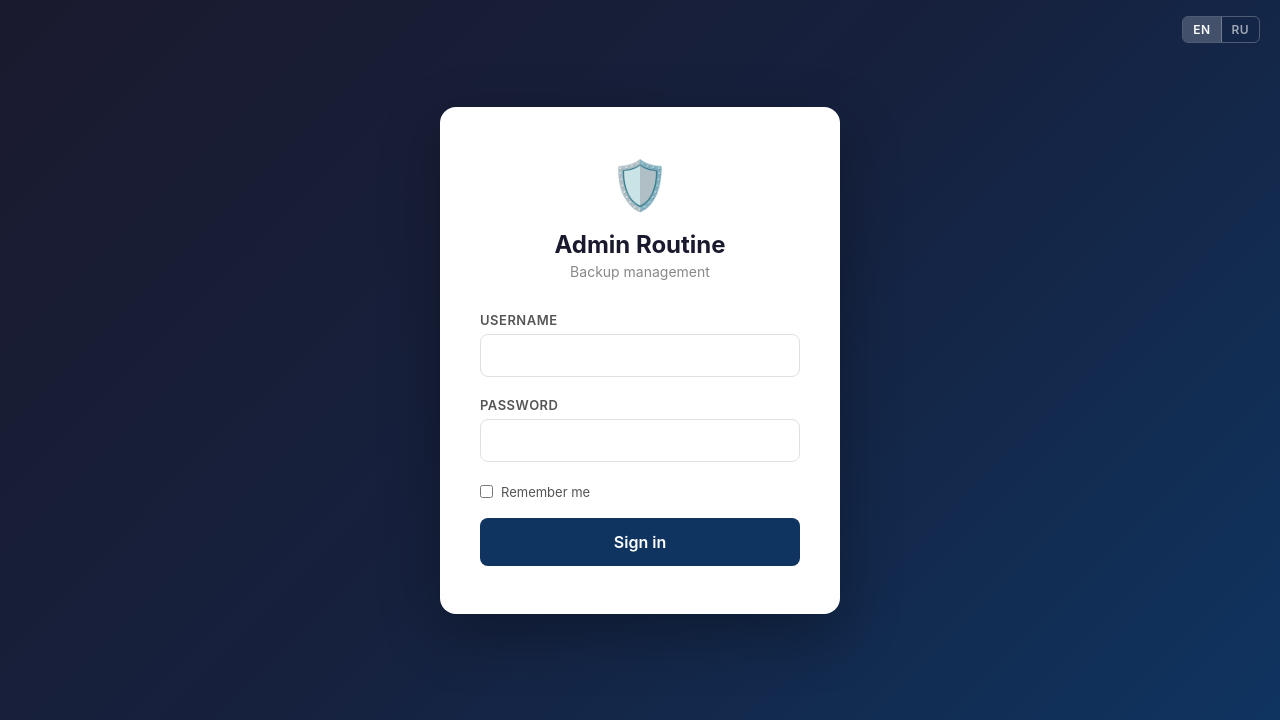
Test: LoginPage › shows error message on login failure
The image size is (1280, 720).
Type "admin1" into the field labelled "Username" at (640, 355), box [480,334,800,376]
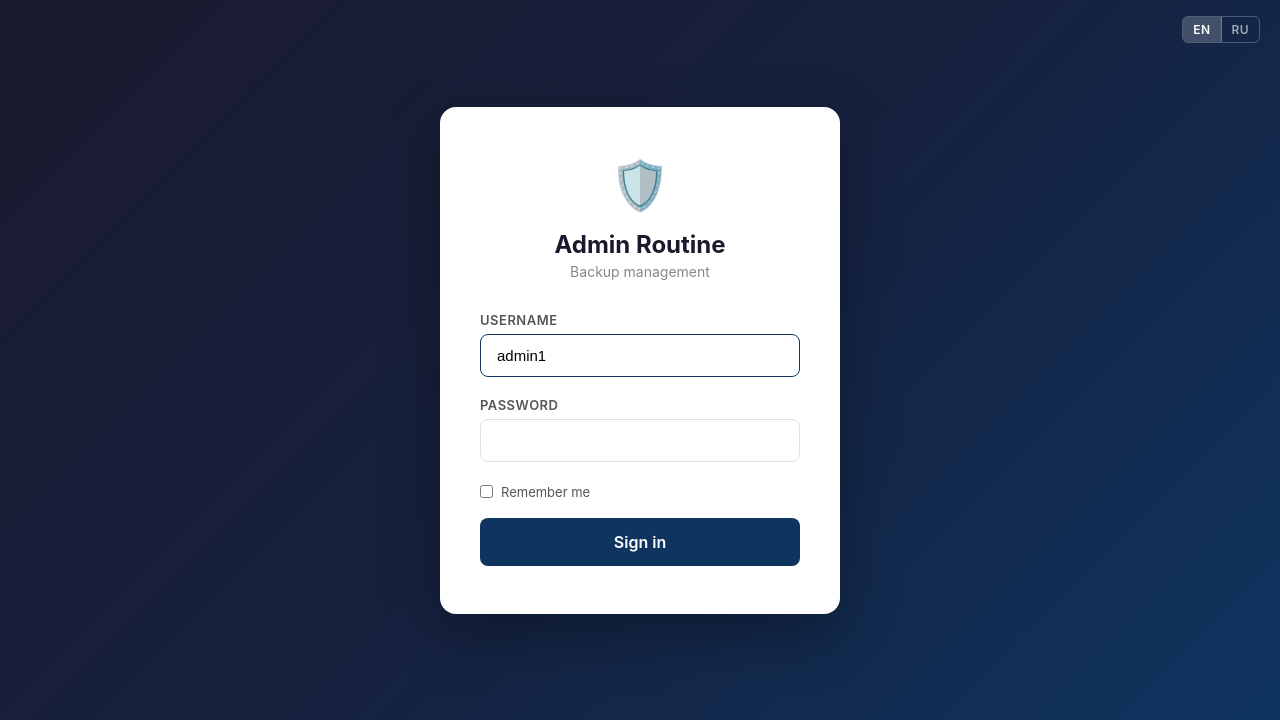
Type "wrongpass" into the password field labelled "Password" at (640, 440), box [480,418,800,462]
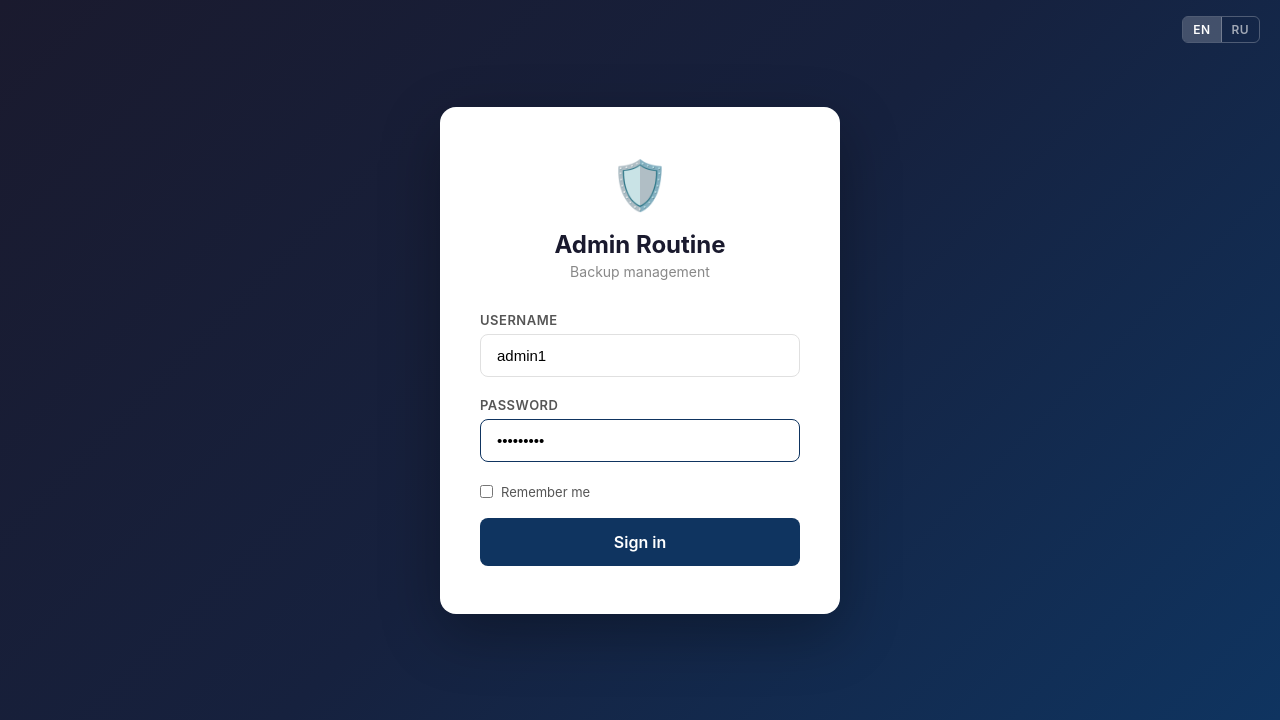
Click the button "Sign in" at (640, 542), box [480,518,800,566]
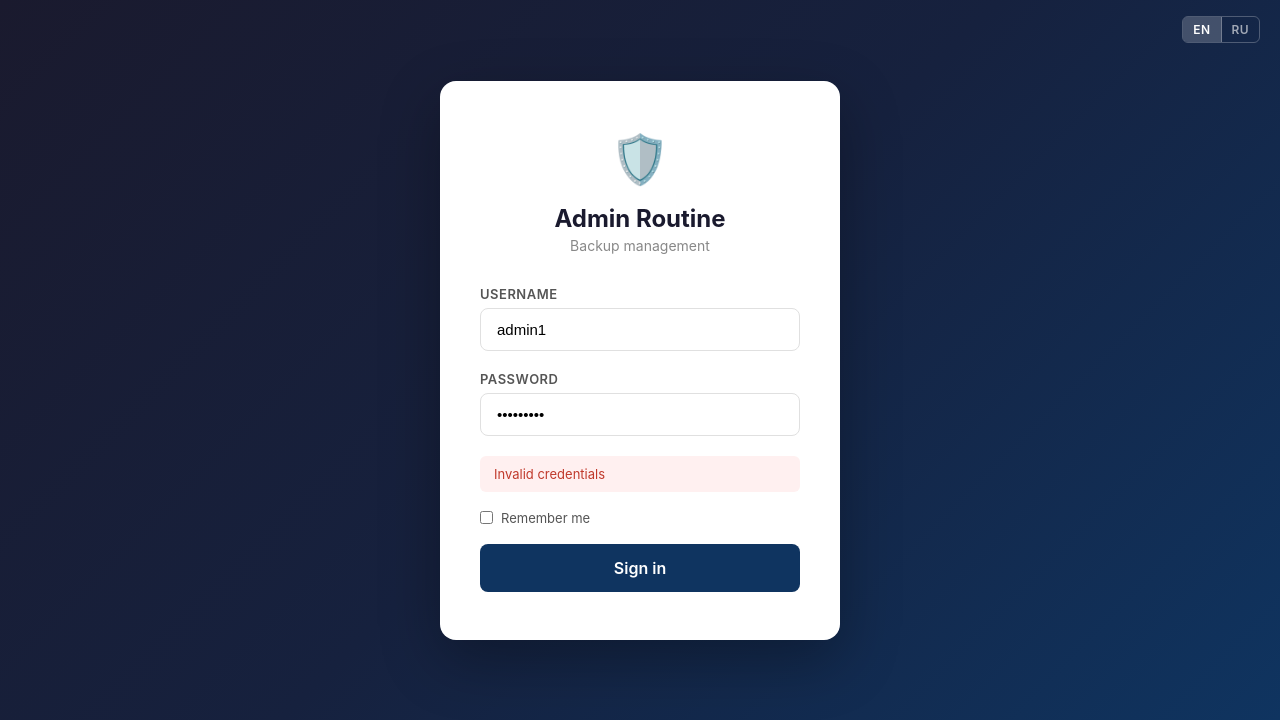
Expected: the text "Invalid credentials" is shown, [480,456,800,492]
